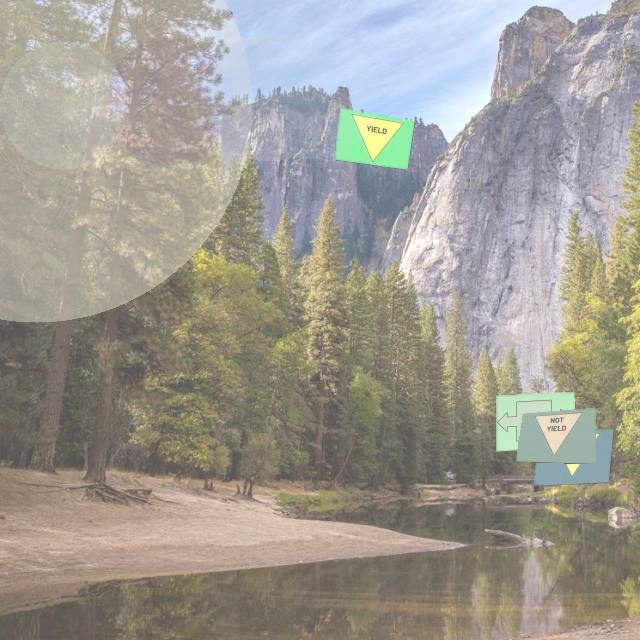GO_AROUND: (496, 397, 571, 443)
NOT_YIELD: (530, 413, 583, 457)
YIELD: (346, 114, 404, 166), (548, 433, 600, 478)
